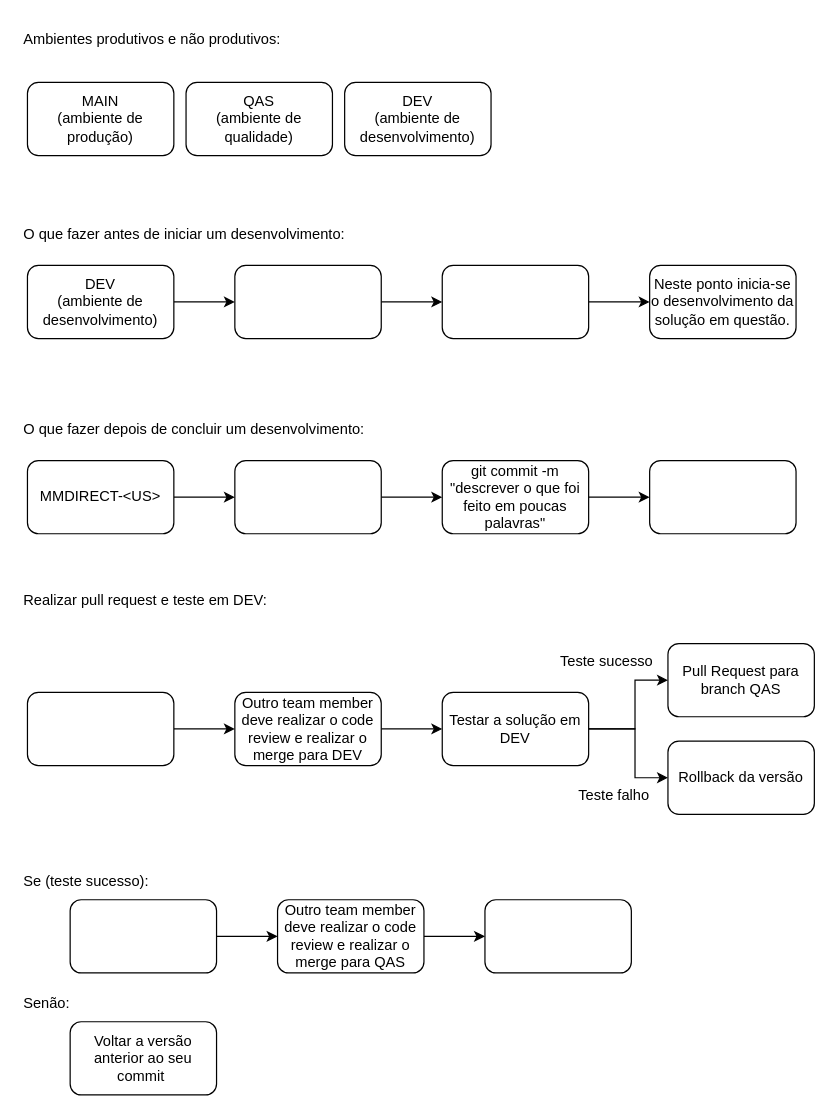
This 836x1116 diagram has some shape labels left out. Each missing label, with the centre of its shape:
"Business deve testar a solução em QAS" belongs at [557,936].
"git add ." belongs at [307,496].
"git checkout -b MMDIRECT-<US>" belongs at [515,301].
"git pull origin dev" belongs at [307,301].
"git push origin MMDIRECT-<US>" belongs at [722,496].
"Realizar Pull Request para branch QAS" belongs at [143,936].
"Realizar um Pull Request da sua branch para DEV" belongs at [100,728].
